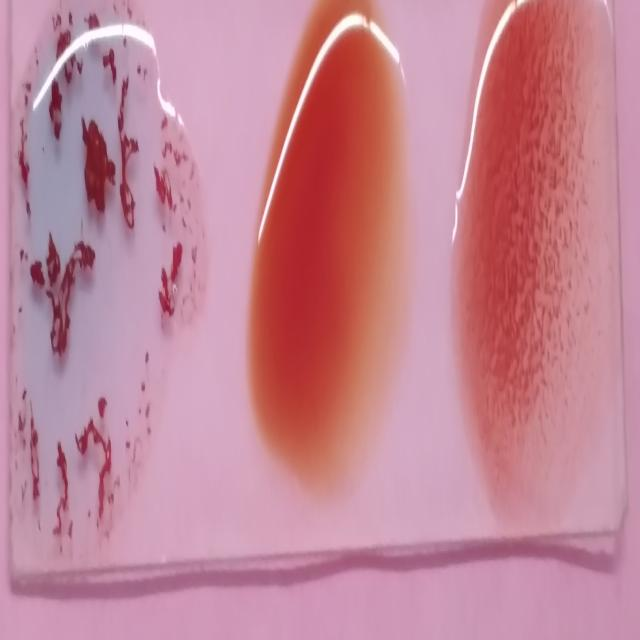A: (7, 29, 180, 560)
D: (476, 8, 602, 506)
